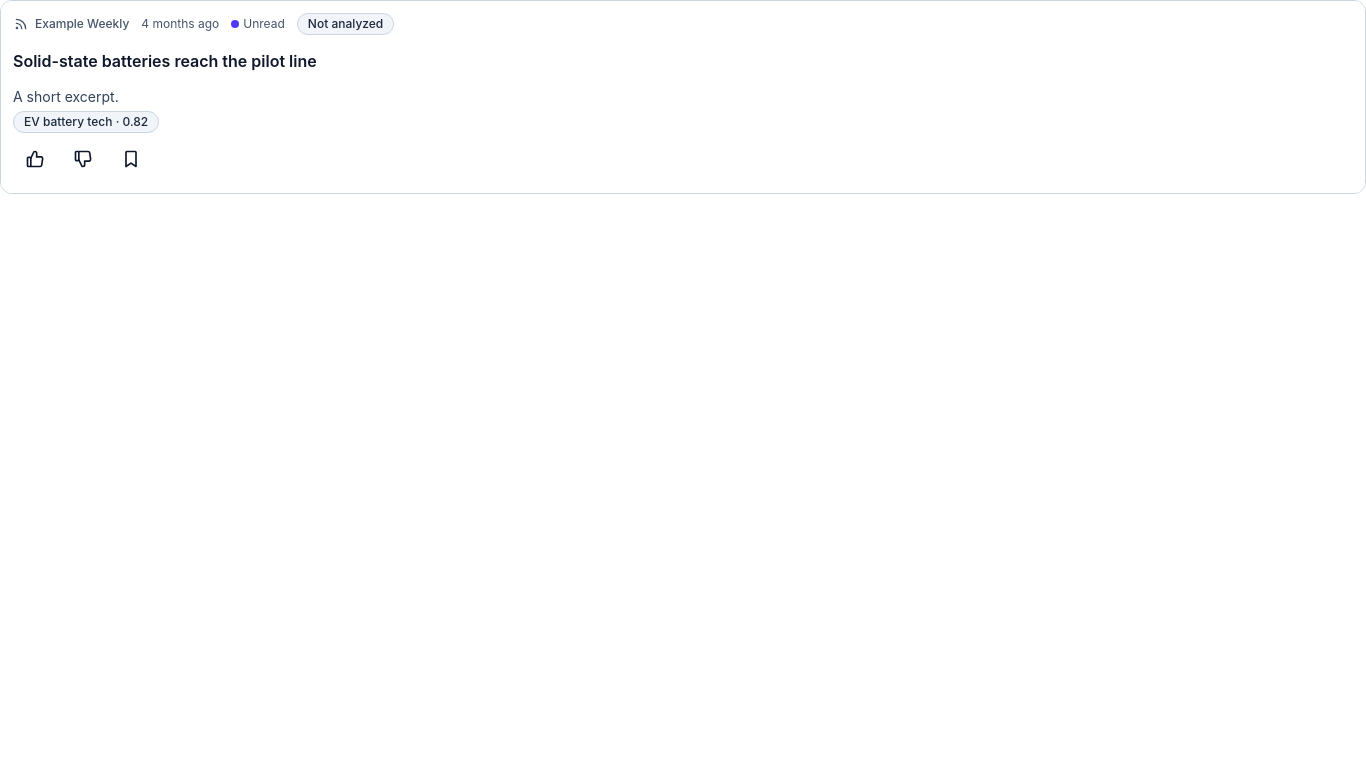
Test case: Teach › sends side no for a suggestion of side no and confirms it the way the drawer does
Click the button named "Dislike".
click(83, 159)  # box [61,137,105,181]
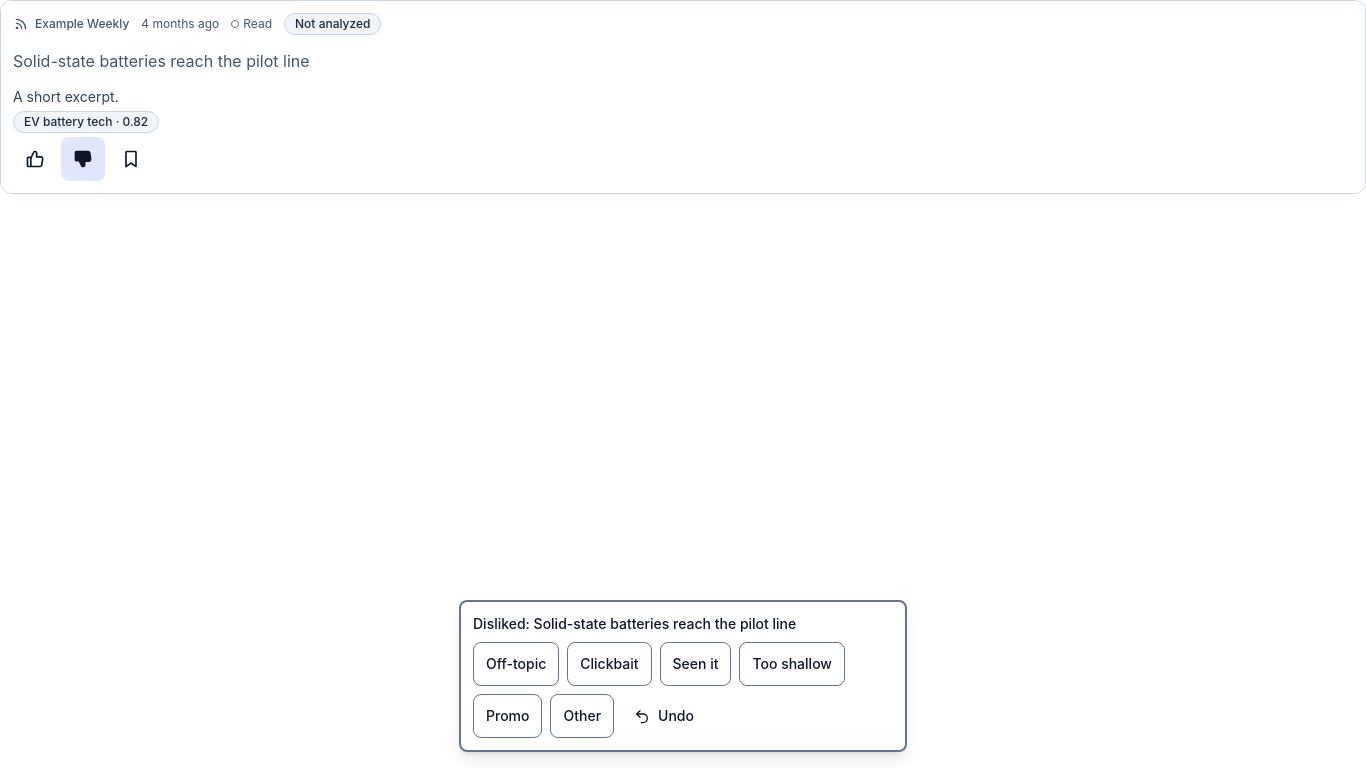
Click the button "Off-topic".
click(516, 664)  # box [473,642,559,686]
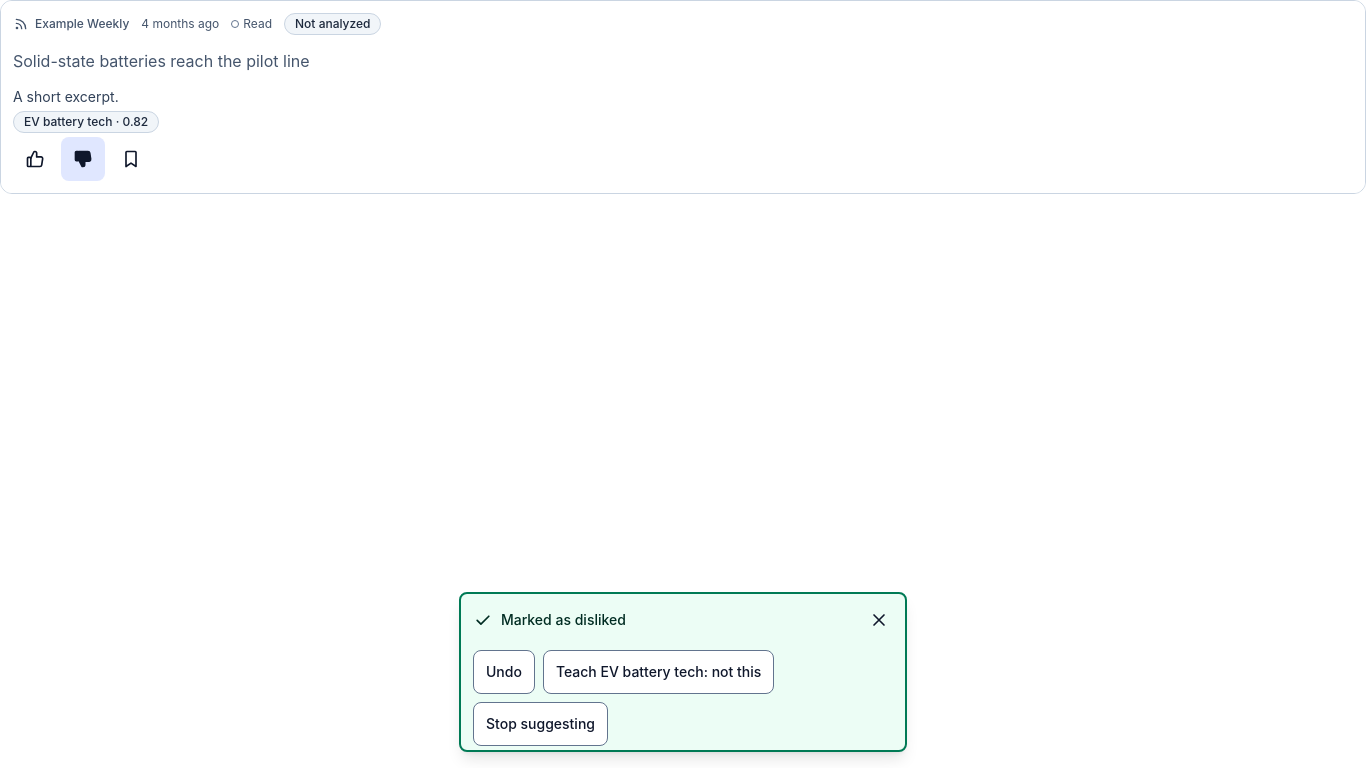
Click the button "Teach EV battery tech: not this".
click(659, 672)  # box [543,650,774,694]
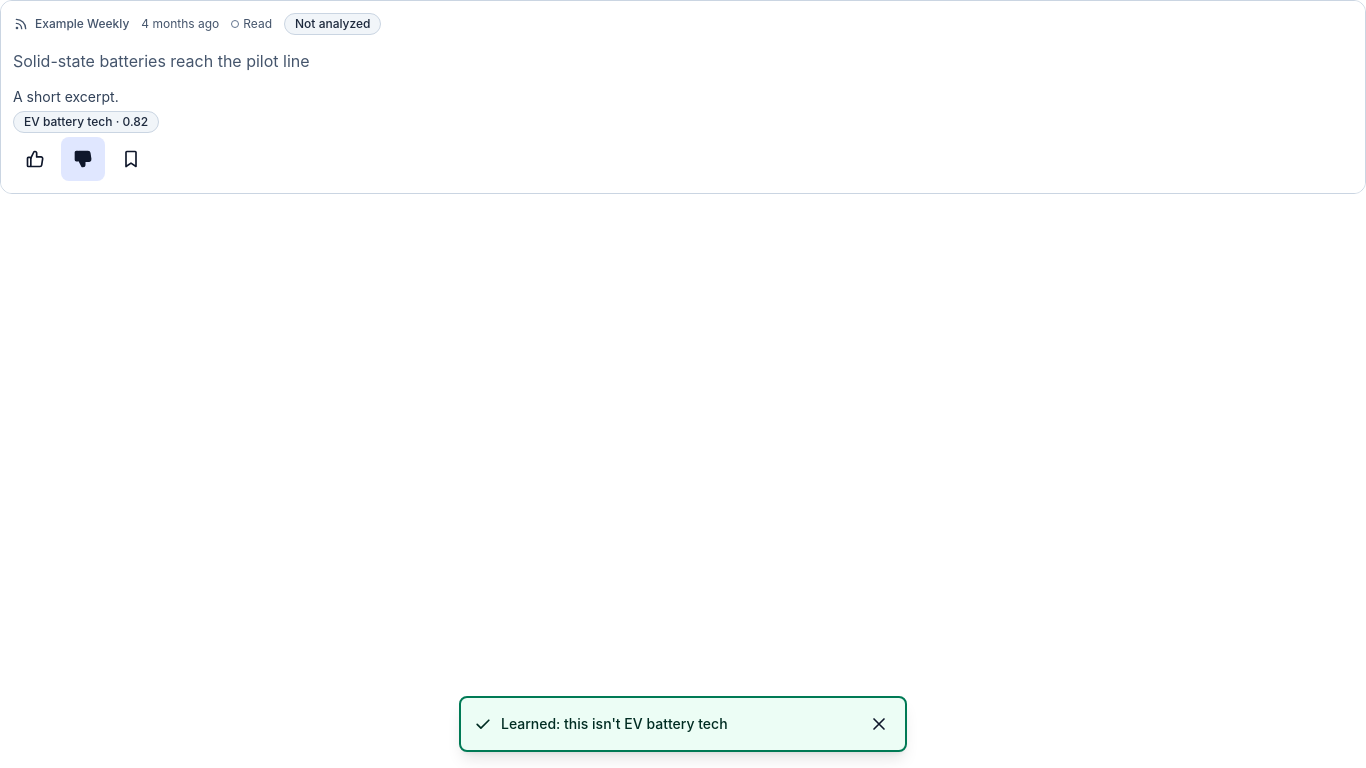
Expected: the text "Learned: this isn't EV battery tech" is shown, [459,696,907,752]
